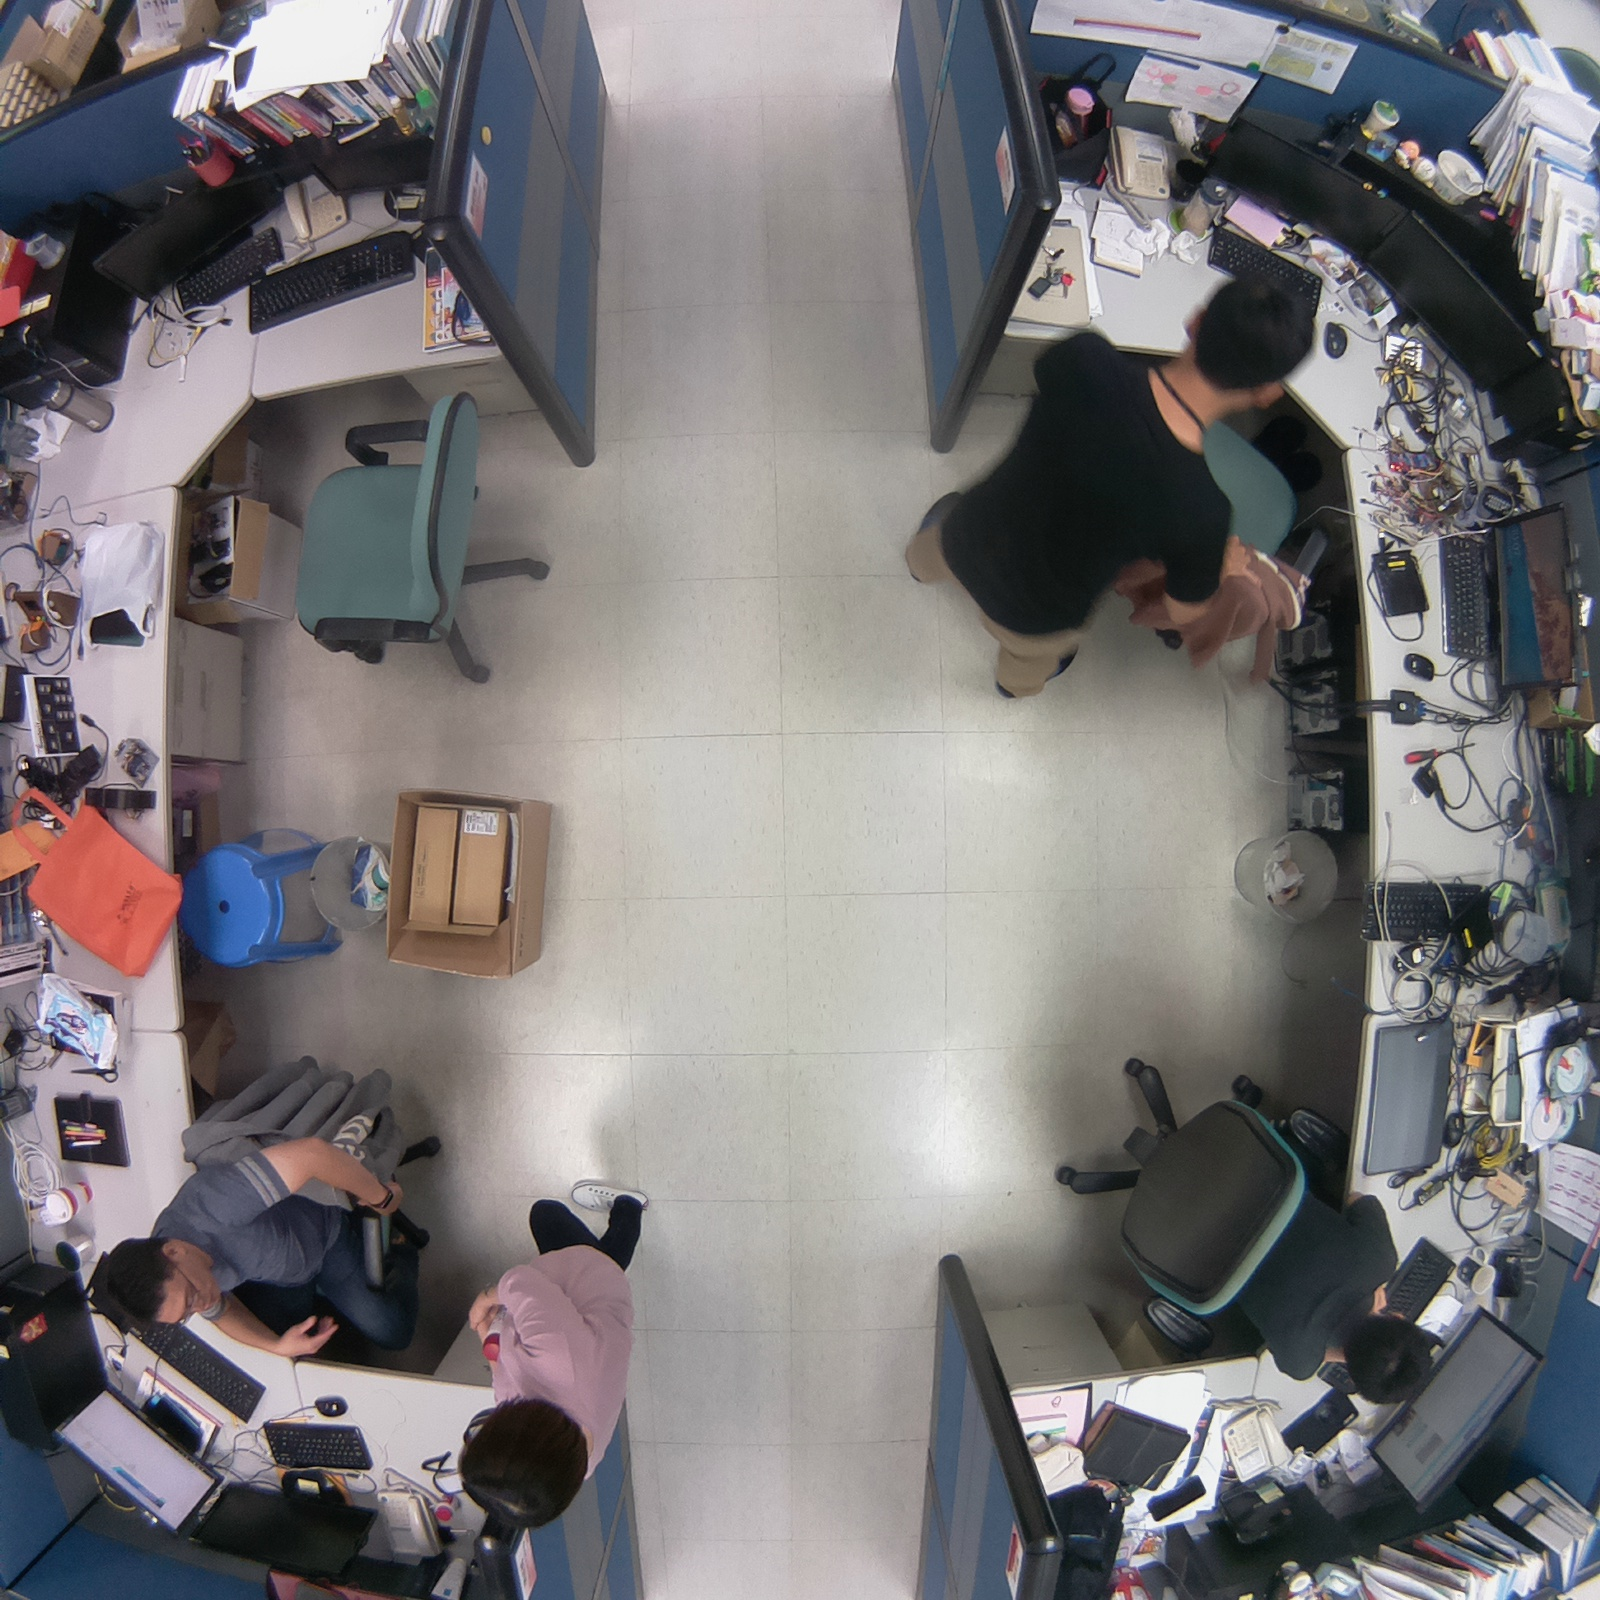chair: (276, 381, 565, 701)
head: (450, 1392, 601, 1541), (1182, 261, 1323, 420), (78, 1225, 225, 1341), (1325, 1306, 1446, 1420)
sitting: (1032, 1034, 1448, 1424), (81, 1040, 458, 1381)
standing: (890, 261, 1355, 709), (427, 1166, 691, 1540)
